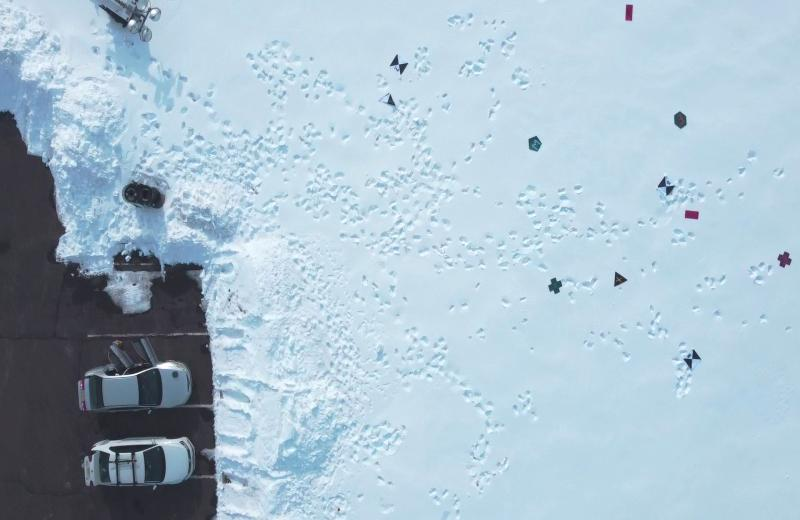Cross: (546, 277, 563, 295), (776, 251, 792, 269)
Hexagon: (672, 112, 688, 130)
Pentagon: (526, 133, 544, 154)
Rectangle: (624, 5, 635, 22), (684, 210, 699, 221)
Triangle: (612, 268, 628, 289)
